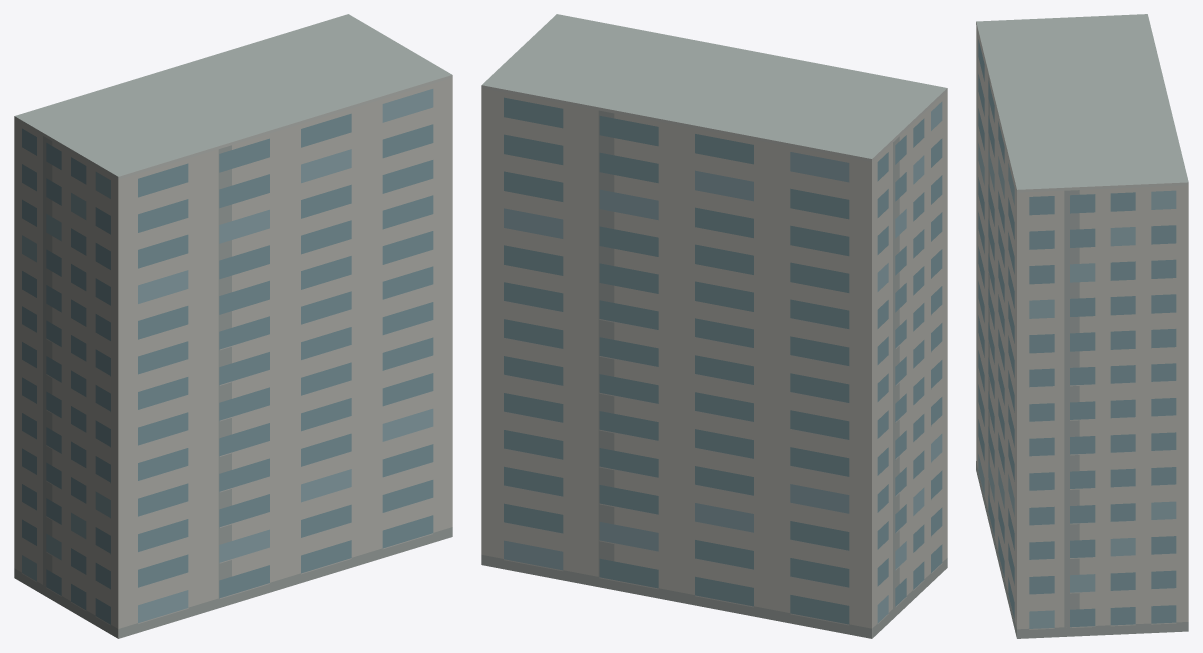
The model's file is residential-eb54845f-eb92-49d3-bf3d-127c97ab8022.glb.
3 views of the same model, side by side, from view 1: azimuth 30°, elevation 25°; view 2: azimuth 150°, elevation 25°; view 3: azimuth 270°, elevation 25° (orthographic). The views are drawn at different scales.
Parts seen in each view (by area): view 1: residential-eb54845f-eb92-49d3-bf3d-127c97ab8022.tmp; view 2: residential-eb54845f-eb92-49d3-bf3d-127c97ab8022.tmp; view 3: residential-eb54845f-eb92-49d3-bf3d-127c97ab8022.tmp.
Part boxes in pixels (bbox=[...]): residential-eb54845f-eb92-49d3-bf3d-127c97ab8022.tmp: bbox=[14, 14, 452, 638]; residential-eb54845f-eb92-49d3-bf3d-127c97ab8022.tmp: bbox=[481, 14, 947, 638]; residential-eb54845f-eb92-49d3-bf3d-127c97ab8022.tmp: bbox=[976, 14, 1188, 638].
Bounding box in the file's own units: 31.08 × 37 × 15.89.
